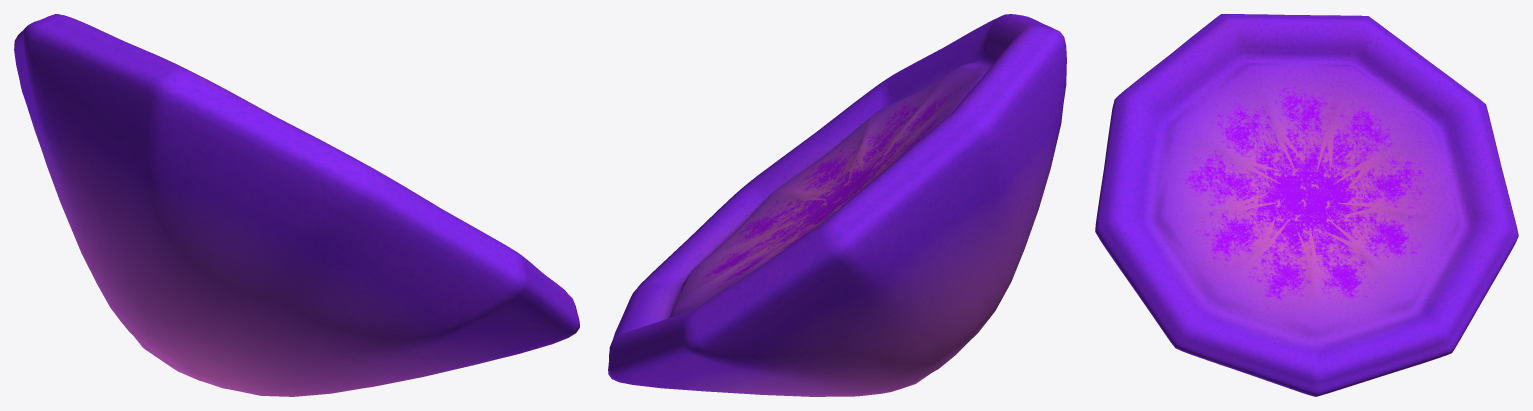
The model's file is orangeslice.fbx.
3 views of the same model, side by side, from view 1: azimuth 30°, elevation 25°; view 2: azimuth 150°, elevation 25°; view 3: azimuth 270°, elevation 25° (orthographic). The views are drawn at different scales.
Parts seen in each view (by area): view 1: orangeslice; view 2: orangeslice; view 3: orangeslice.
Boxes of the visible parts, x1,y1,x2,y2 form: orangeslice: [14, 14, 579, 396]; orangeslice: [608, 14, 1066, 396]; orangeslice: [1095, 14, 1518, 396].
Bounding box in the file's own units: 18.46 × 15.63 × 22.93.
